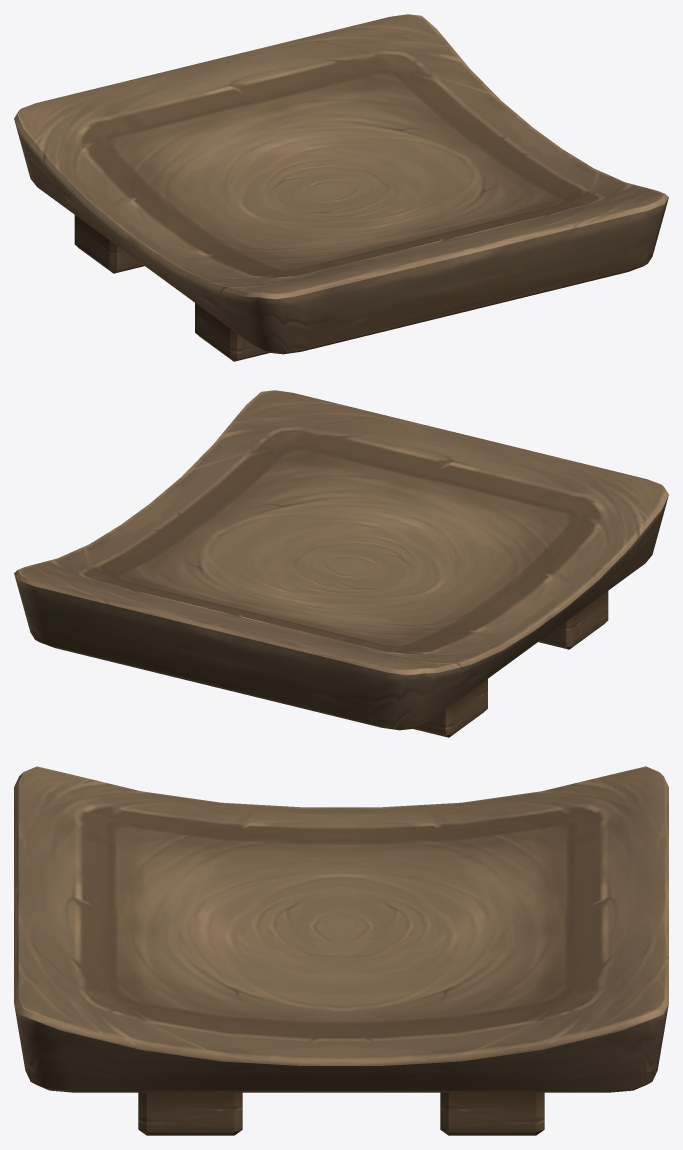
The model's file is SF_Plate08.FBX.
3 views of the same model, one above another, from view 1: azimuth 30°, elevation 25°; view 2: azimuth 150°, elevation 25°; view 3: azimuth 270°, elevation 25° (orthographic). The views are drawn at different scales.
Parts seen in each view (by area): view 1: SF_Plate08; view 2: SF_Plate08; view 3: SF_Plate08.
Boxes of the visible parts, bbox=[...] form: SF_Plate08: bbox=[14, 14, 668, 361]; SF_Plate08: bbox=[14, 390, 668, 737]; SF_Plate08: bbox=[14, 766, 668, 1135].
Bounding box in the file's own units: 89.03 × 21.5 × 96.32.
